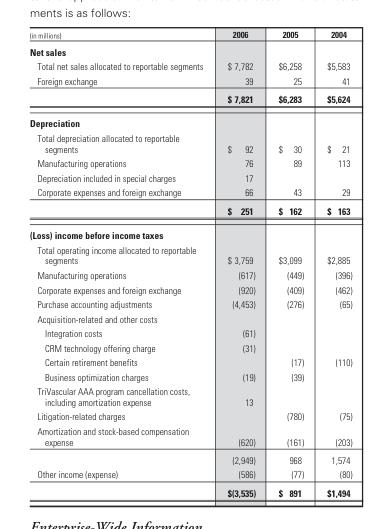table: (28, 28, 351, 498)
table column: (28, 28, 214, 498), (214, 28, 266, 498), (266, 28, 314, 498), (314, 28, 351, 498)
table column header: (28, 28, 351, 42)
table projected row header: (28, 110, 351, 130), (28, 222, 351, 242), (28, 42, 351, 58), (28, 310, 351, 325)
table row: (28, 423, 351, 450), (28, 130, 351, 155), (28, 242, 351, 267), (28, 383, 351, 408), (28, 89, 351, 110), (28, 201, 351, 222), (28, 110, 351, 130), (28, 222, 351, 242), (28, 72, 351, 89), (28, 184, 351, 201), (28, 466, 351, 483), (28, 42, 351, 58), (28, 450, 351, 466), (28, 155, 351, 170), (28, 281, 351, 296), (28, 310, 351, 325), (28, 339, 351, 354), (28, 354, 351, 369), (28, 408, 351, 423), (28, 483, 351, 498), (28, 28, 351, 42), (28, 58, 351, 72), (28, 170, 351, 184), (28, 267, 351, 281), (28, 296, 351, 310), (28, 325, 351, 339), (28, 369, 351, 383)
